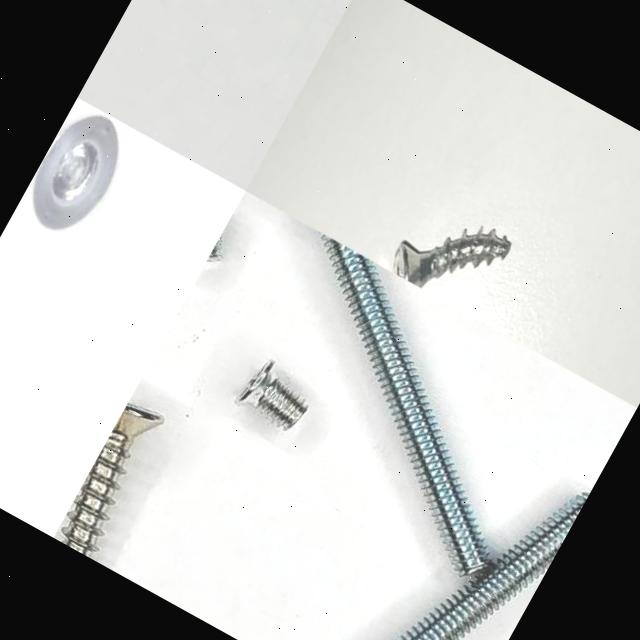Screw: (321, 233, 490, 576), (400, 493, 589, 640), (61, 405, 163, 558), (33, 118, 117, 229), (392, 228, 510, 289), (235, 362, 308, 430)
